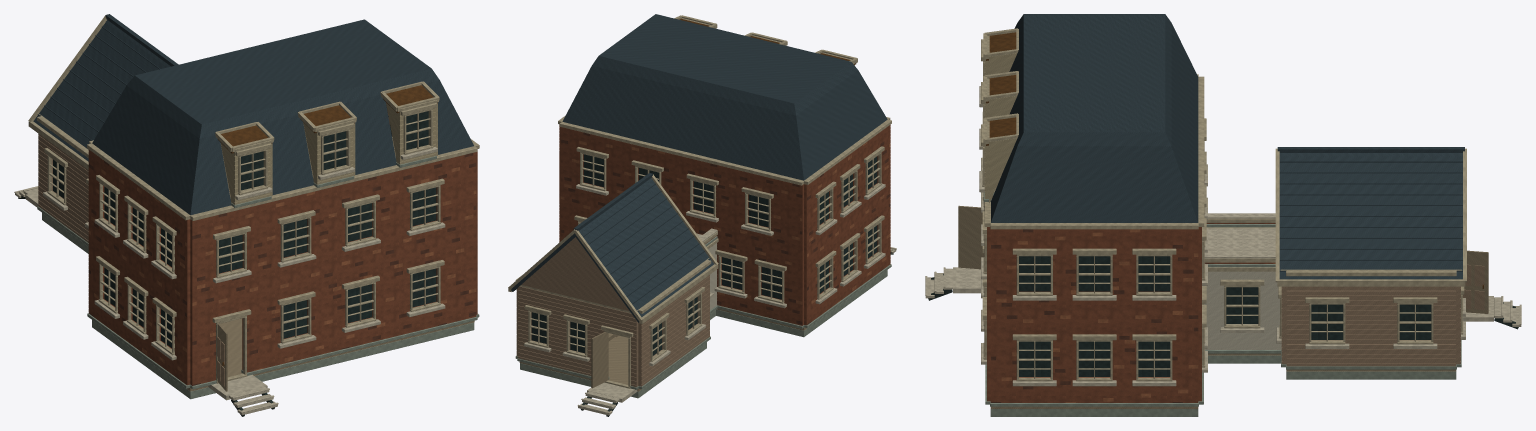
3 renders of one model, left to right at view 1: azimuth 30°, elevation 25°; view 2: azimuth 150°, elevation 25°; view 3: azimuth 270°, elevation 25°, orthographic. The views are drawn at different scales.
Visible parts, largest first — view 1: A011-16_02_Masonry_Facing, A011-16_11_Roof_Mansard_Cap, A011-16_01_Wall_Shell, A011-16_11_Roof_Mansard_Skirt, A011-16_04_Architectural_Trim, A011-16_03_Window_Door_Frames, A011-16_06_Glazing, A011-16_11_Roof_Rear_Gable, A011-16_02_Clapboard, A011-16_00_Foundation, A011-16_12_Roof_Edges, A011-16_07_Floors (+4 smaller); view 2: A011-16_02_Masonry_Facing, A011-16_11_Roof_Mansard_Skirt, A011-16_11_Roof_Mansard_Cap, A011-16_01_Wall_Shell, A011-16_11_Roof_Rear_Gable, A011-16_04_Architectural_Trim, A011-16_02_Clapboard, A011-16_03_Window_Door_Frames, A011-16_06_Glazing, A011-16_12_Roof_Edges, A011-16_00_Foundation, A011-16_07_Floors (+2 smaller); view 3: A011-16_02_Masonry_Facing, A011-16_11_Roof_Rear_Gable, A011-16_11_Roof_Mansard_Cap, A011-16_11_Roof_Mansard_Skirt, A011-16_04_Architectural_Trim, A011-16_01_Wall_Shell, A011-16_02_Clapboard, A011-16_06_Glazing, A011-16_03_Window_Door_Frames, A011-16_12_Roof_Edges, A011-16_00_Foundation, A011-16_07_Floors (+6 smaller).
Part boxes in pixels (<box>): A011-16_02_Masonry_Facing: <box>88,149,476,385</box>; A011-16_11_Roof_Mansard_Cap: <box>126,19,439,138</box>; A011-16_01_Wall_Shell: <box>51,103,477,385</box>; A011-16_11_Roof_Mansard_Skirt: <box>92,80,473,215</box>; A011-16_04_Architectural_Trim: <box>37,100,479,389</box>; A011-16_03_Window_Door_Frames: <box>47,108,440,383</box>; A011-16_06_Glazing: <box>53,111,436,348</box>; A011-16_11_Roof_Rear_Gable: <box>33,14,178,161</box>; A011-16_02_Clapboard: <box>38,108,435,242</box>; A011-16_00_Foundation: <box>42,213,474,399</box>; A011-16_12_Roof_Edges: <box>28,15,439,169</box>; A011-16_07_Floors: <box>25,125,474,400</box>; A011-16_02_Masonry_Facing: <box>559,124,890,325</box>; A011-16_11_Roof_Mansard_Skirt: <box>562,66,887,180</box>; A011-16_11_Roof_Mansard_Cap: <box>592,14,857,115</box>; A011-16_01_Wall_Shell: <box>517,126,889,386</box>; A011-16_11_Roof_Rear_Gable: <box>511,173,713,322</box>; A011-16_04_Architectural_Trim: <box>515,18,891,389</box>; A011-16_02_Clapboard: <box>516,65,854,387</box>; A011-16_03_Window_Door_Frames: <box>528,152,881,388</box>; A011-16_06_Glazing: <box>531,154,877,355</box>; A011-16_12_Roof_Edges: <box>508,15,857,323</box>; A011-16_00_Foundation: <box>520,270,887,398</box>; A011-16_07_Floors: <box>519,308,806,402</box>; A011-16_02_Masonry_Facing: <box>991,229,1275,402</box>; A011-16_11_Roof_Rear_Gable: <box>1277,147,1464,279</box>; A011-16_11_Roof_Mansard_Cap: <box>1017,14,1171,146</box>; A011-16_11_Roof_Mansard_Skirt: <box>991,23,1198,222</box>; A011-16_04_Architectural_Trim: <box>979,36,1465,406</box>; A011-16_01_Wall_Shell: <box>985,59,1459,402</box>; A011-16_02_Clapboard: <box>984,59,1460,366</box>; A011-16_06_Glazing: <box>1019,256,1431,376</box>; A011-16_03_Window_Door_Frames: <box>982,61,1463,381</box>; A011-16_12_Roof_Edges: <box>983,28,1466,286</box>; A011-16_00_Foundation: <box>990,355,1456,416</box>; A011-16_07_Floors: <box>953,177,1493,408</box>.
Bounding box in the file's own units: 11.62 × 9.56 × 18.96.
Materials: 14 (14 with a texture image).
